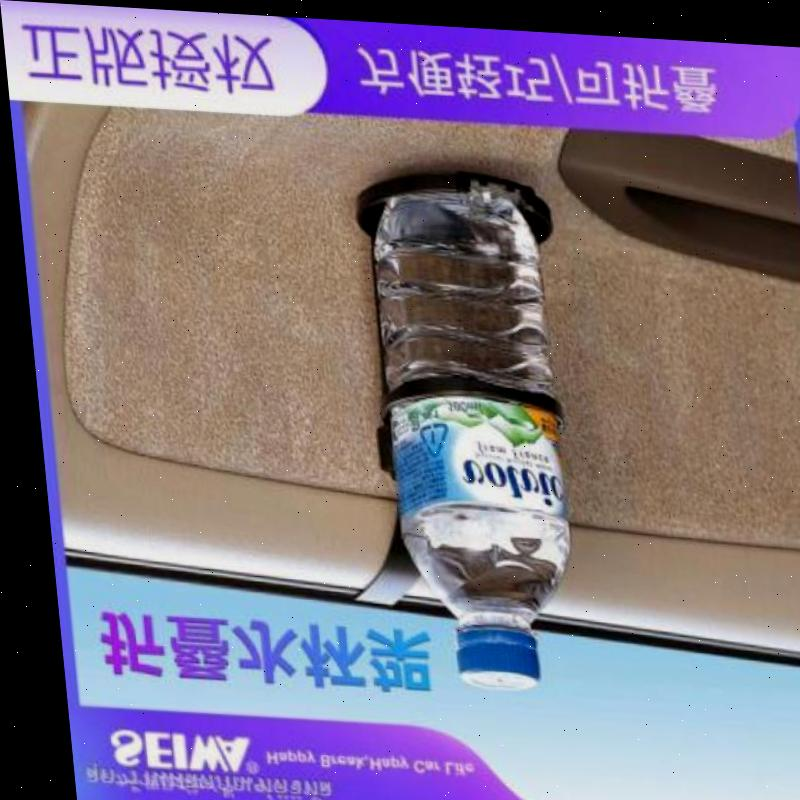botella: (364, 179, 568, 686)
